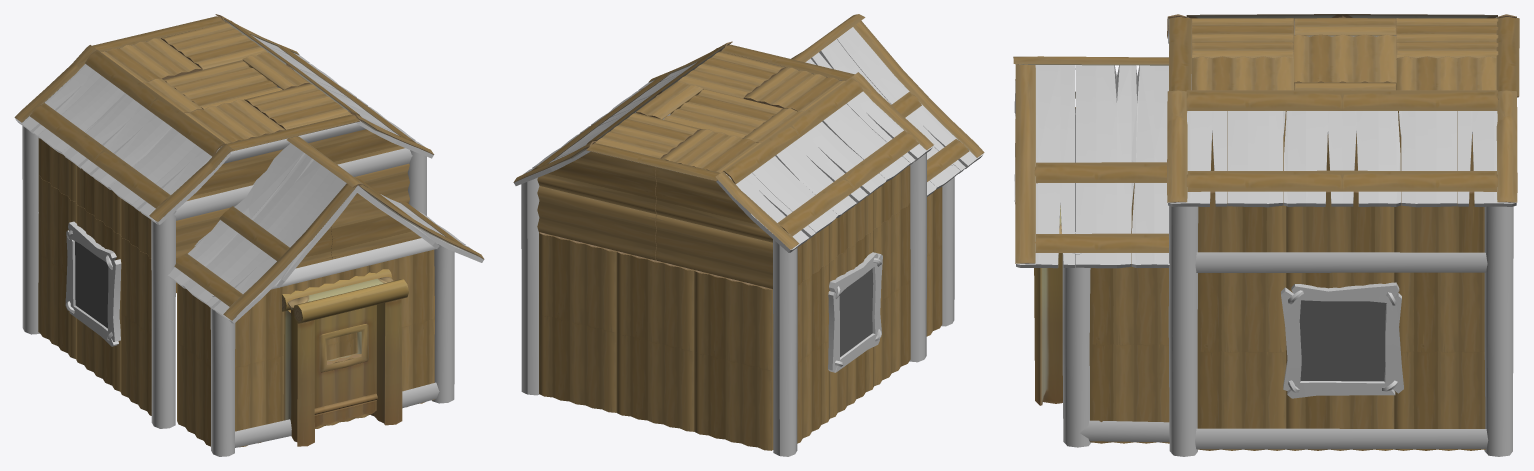
Rendered from bingying.fbx.
3 renders of one model, left to right at view 1: azimuth 30°, elevation 25°; view 2: azimuth 150°, elevation 25°; view 3: azimuth 270°, elevation 25°, orthographic. The views are drawn at different scales.
Parts seen in each view (by area): view 1: A; view 2: A; view 3: A.
Part boxes in pixels (bbox=[...]): A: bbox=[14, 14, 484, 456]; A: bbox=[513, 14, 984, 456]; A: bbox=[1013, 14, 1519, 456].
Size of the model in its own units: 110 by 100 by 142.
